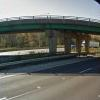Bridge: (4, 9, 99, 50)
